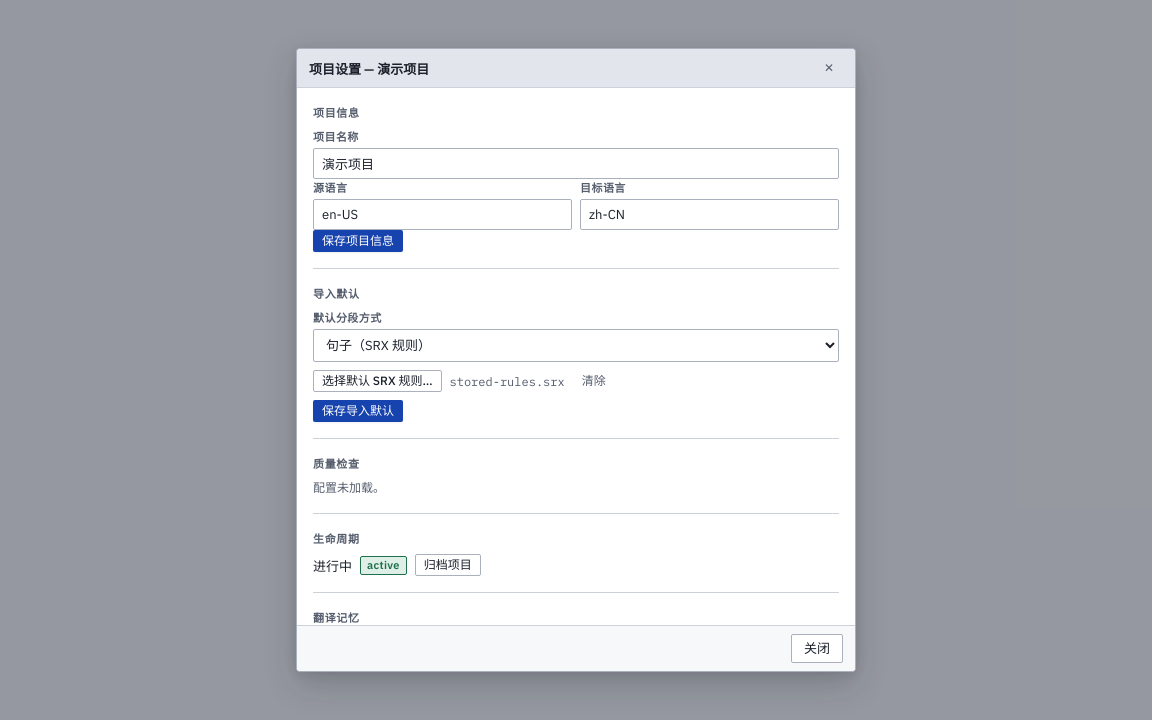
Scenario: ProjectSettingsDialog › shows the stored import defaults and disables SRX in paragraph mode
Expected: the text "stored-rules.srx" is shown, [450, 374, 565, 388]
Expected: the button "选择默认 SRX 规则…" is enabled, [313, 370, 442, 392]
Step 1. Select "段落" in the dropdown labelled "默认分段方式" → (576, 346), box [313, 329, 839, 362]
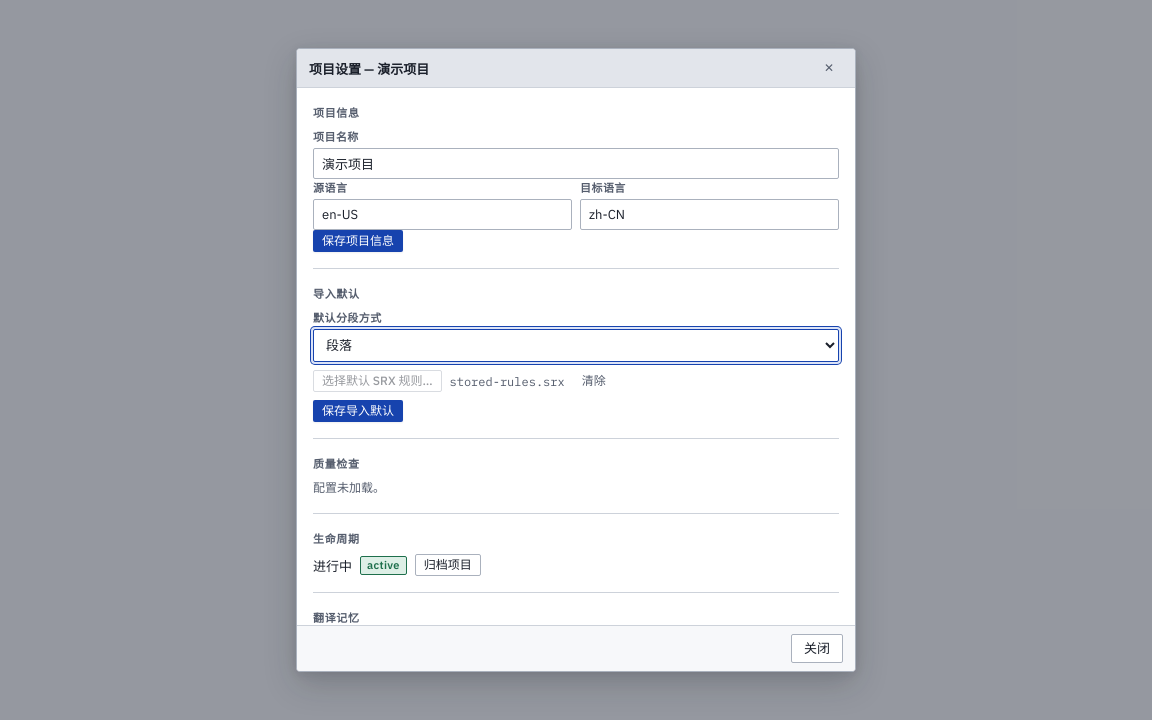
Expected: the text "stored-rules.srx" is shown, [450, 374, 565, 388]
Now the button "选择默认 SRX 规则…" is disabled, box [313, 370, 442, 392]
